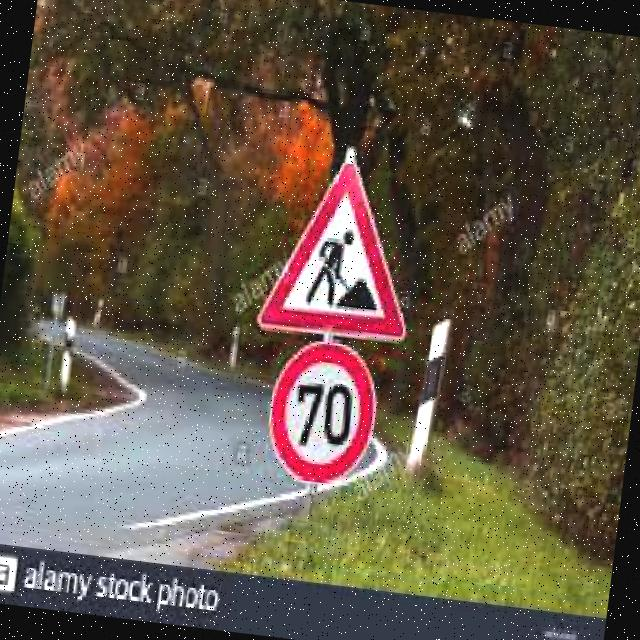Ograniczenie predkosci do 70: (260, 335, 386, 498)
